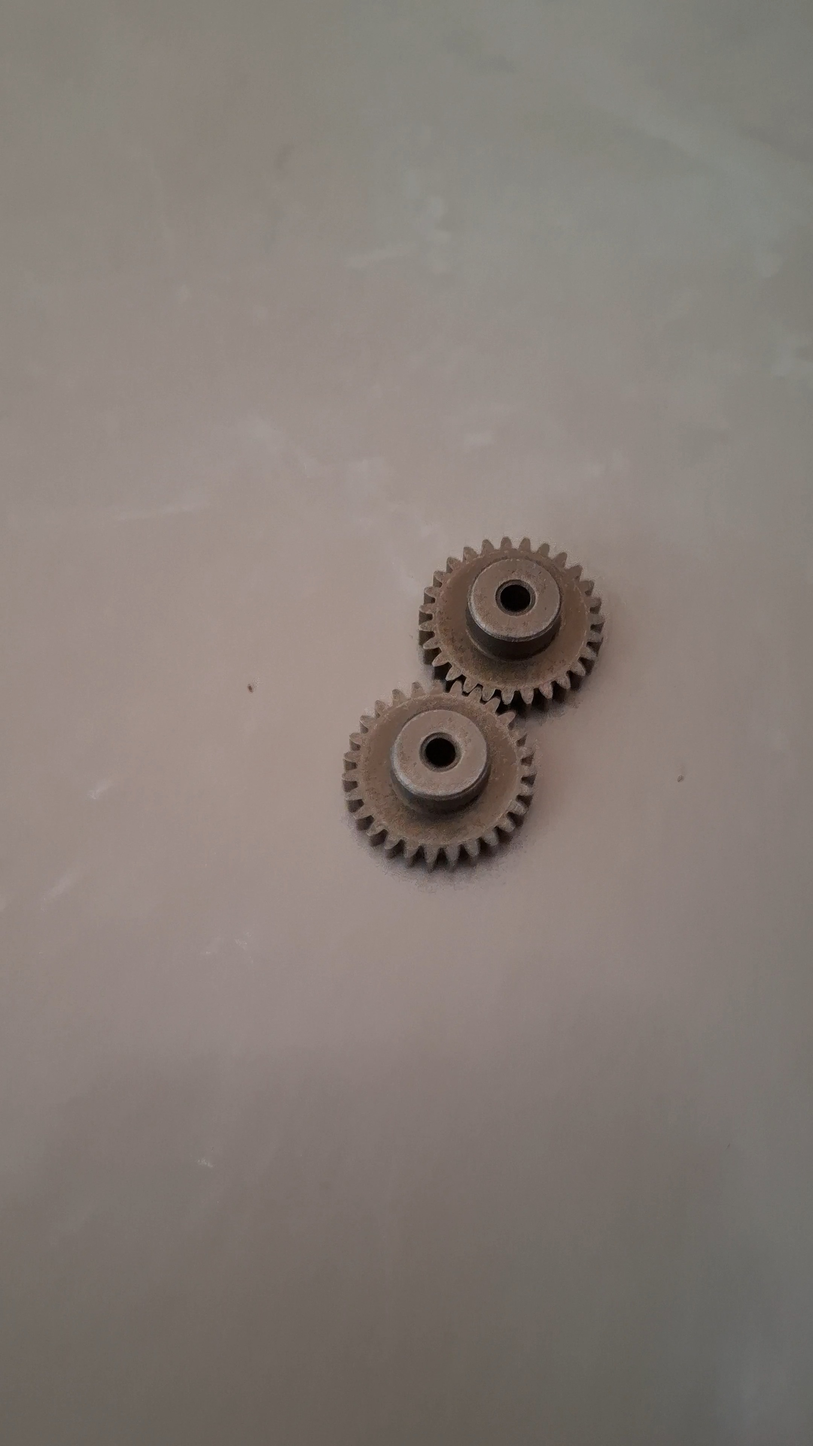spur gear: (320, 648, 511, 815), (387, 507, 568, 664)
